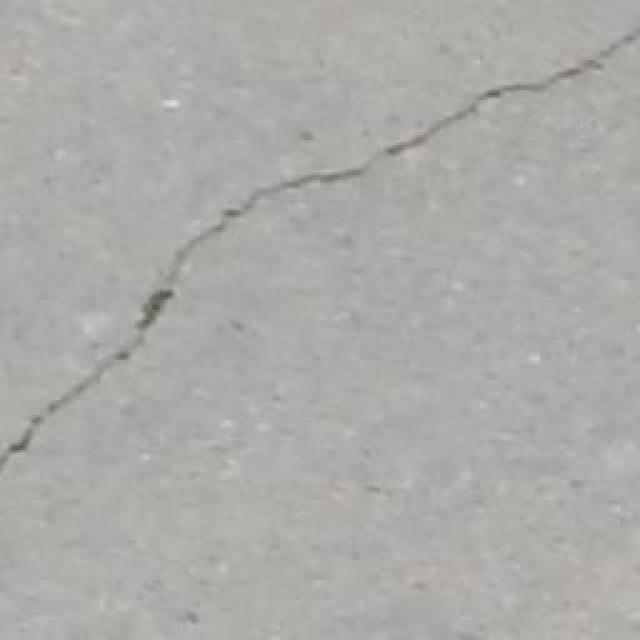concrete-crack: (0, 30, 640, 475)
